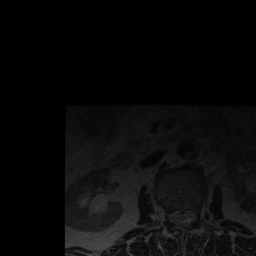CCS_normal: (178, 203, 185, 232)
LFS_normal: (193, 202, 201, 226)
LLS_normal: (185, 200, 193, 231)
RFS_normal: (164, 201, 171, 229)
RLS_normal: (171, 202, 178, 230)
